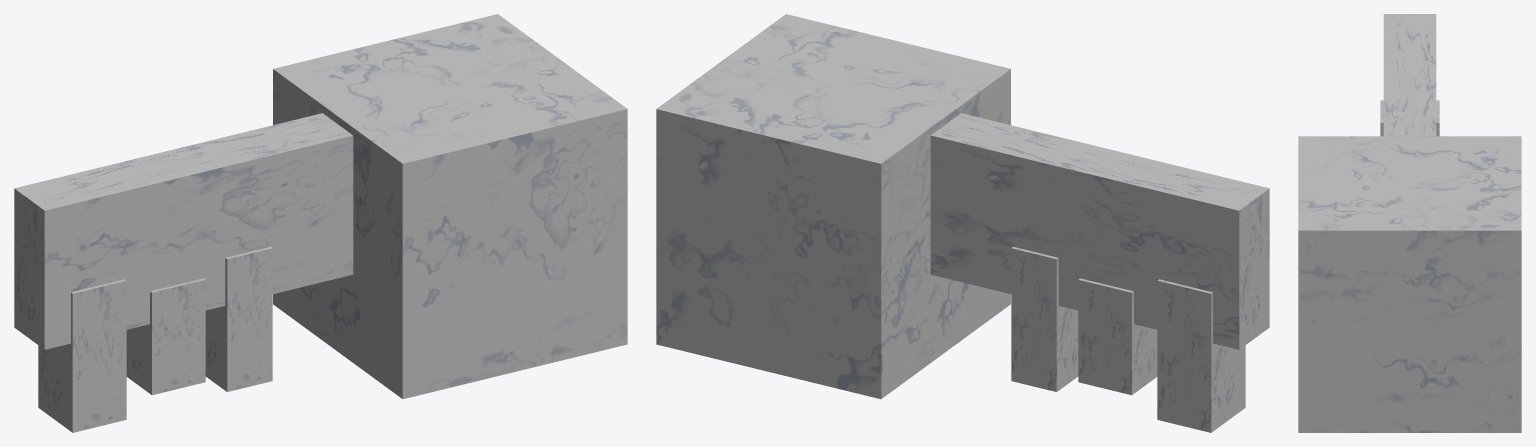
The model's file is Key.obj.
The picture shows the model from 3 angles, left to right: view 1: azimuth 30°, elevation 25°; view 2: azimuth 150°, elevation 25°; view 3: azimuth 270°, elevation 25°; orthographic projection. The views are drawn at different scales.
Parts seen in each view (by area): view 1: 00000.001_Cube.012; view 2: 00000.001_Cube.012; view 3: 00000.001_Cube.012.
Part boxes in pixels (x1,y1,x2,y2): 00000.001_Cube.012: [14, 14, 627, 432]; 00000.001_Cube.012: [656, 14, 1269, 432]; 00000.001_Cube.012: [1298, 14, 1521, 432].
Size of the model in its own units: 0.1094 by 0.0462 by 0.0462.
1 material, 1 textured.
